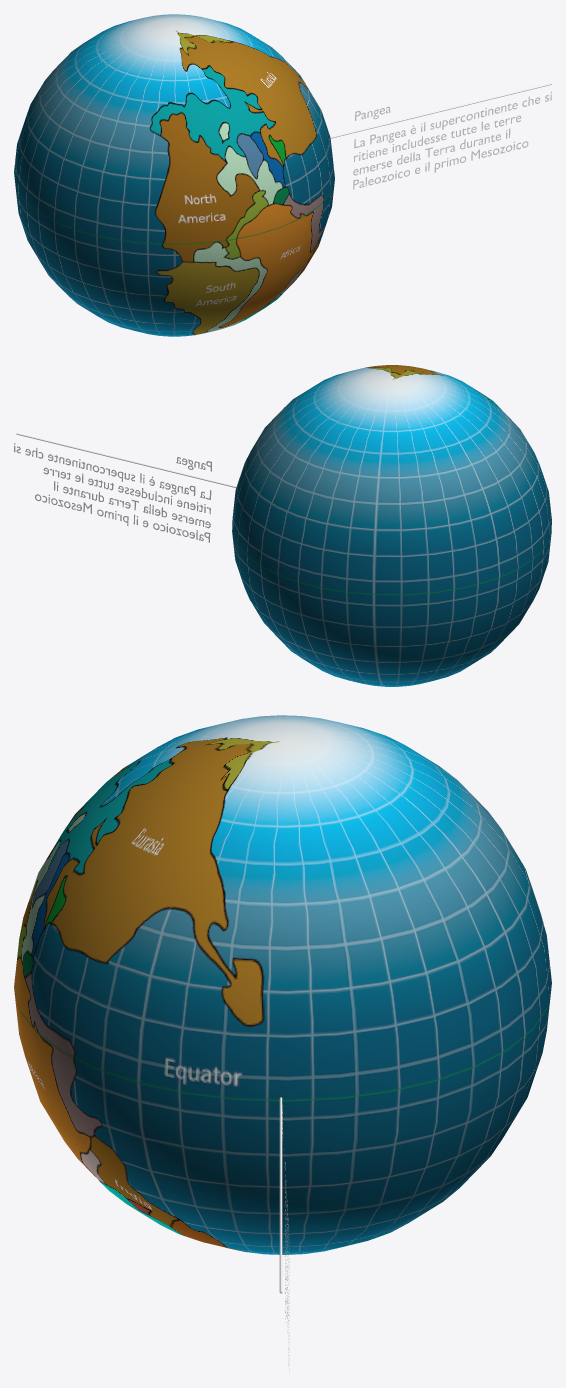
Rendered from Pangea-4.gltf.
3 views of the same model, one above another, from view 1: azimuth 30°, elevation 25°; view 2: azimuth 150°, elevation 25°; view 3: azimuth 270°, elevation 25° (orthographic). The views are drawn at different scales.
Parts seen in each view (by area): view 1: Sphere, Text, riga; view 2: Sphere, Text, riga; view 3: Sphere, riga.
Boxes of the visible parts, box(x1,y1,x2,y2) form: Sphere: box(14, 14, 334, 336); Text: box(353, 91, 551, 189); riga: box(330, 83, 551, 138); Sphere: box(232, 365, 551, 686); Text: box(14, 443, 211, 542); riga: box(16, 433, 236, 487); Sphere: box(14, 715, 551, 1254); riga: box(279, 1097, 282, 1293).
Bounding box in the file's own units: 7.73 × 4.16 × 4.16.
Materials: 2 (1 with a texture image).
